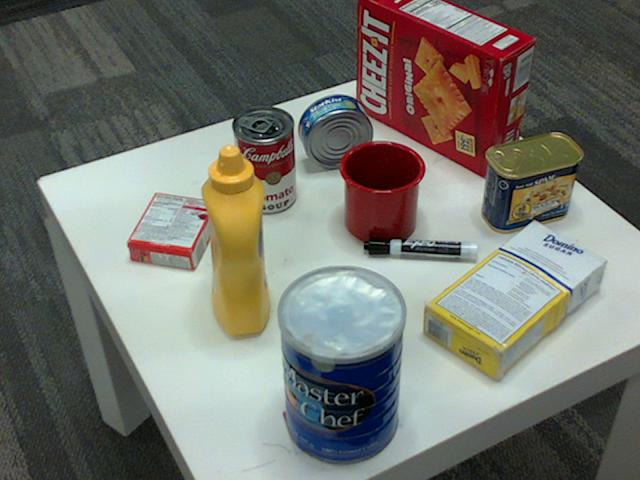cracker_box: (356, 0, 535, 176)
gelatin_box: (124, 189, 215, 267)
large_marker: (364, 237, 478, 263)
master_chef_can: (277, 268, 406, 467)
mug: (336, 139, 424, 243)
mustard_bottle: (199, 145, 269, 335)
potted_meat_can: (481, 134, 581, 234)
sugar_box: (420, 220, 604, 381)
tomato_soup_can: (231, 106, 295, 214)
tuna_fish_can: (296, 94, 371, 168)
